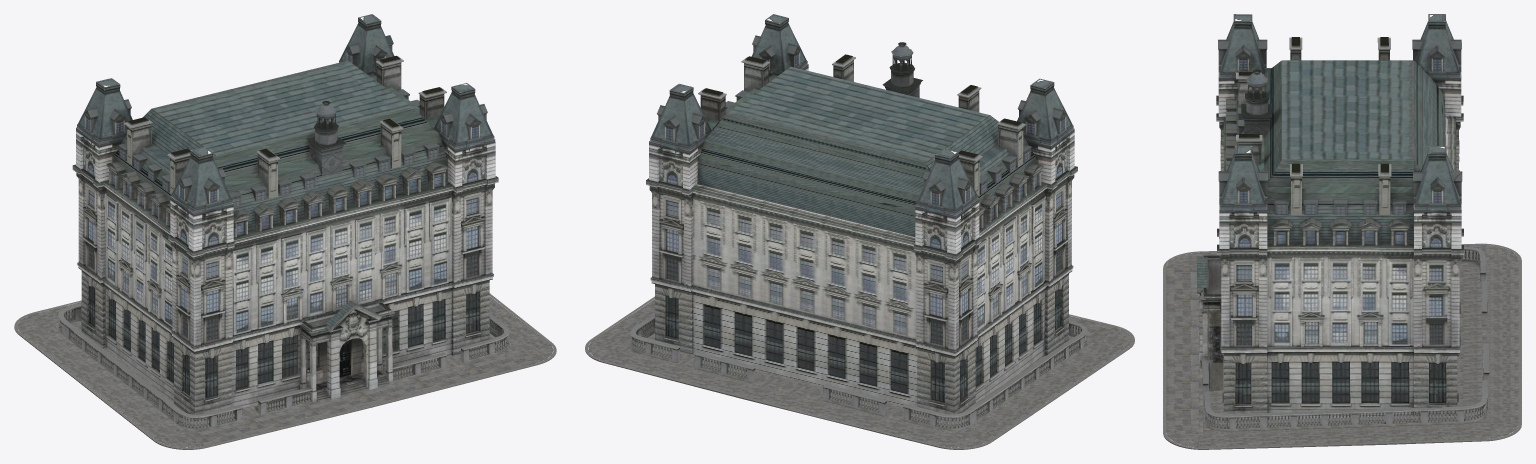
File: free_london_kinnaird_house.glb
The picture shows the model from 3 angles, left to right: view 1: azimuth 30°, elevation 25°; view 2: azimuth 150°, elevation 25°; view 3: azimuth 270°, elevation 25°; orthographic projection. The views are drawn at different scales.
Visible parts, largest first — view 1: Building_London_Building_0, Plane.001_Sidewalk_0, Plane.002_Sidewalk_Curb_0; view 2: Building_London_Building_0, Plane.001_Sidewalk_0, Plane.002_Sidewalk_Curb_0; view 3: Building_London_Building_0, Plane.001_Sidewalk_0, Plane.002_Sidewalk_Curb_0.
Boxes of the visible parts, x1,y1,x2,y2 form: Building_London_Building_0: [58, 14, 509, 429]; Plane.001_Sidewalk_0: [17, 296, 553, 447]; Plane.002_Sidewalk_Curb_0: [14, 293, 556, 449]; Building_London_Building_0: [630, 14, 1087, 430]; Plane.001_Sidewalk_0: [588, 299, 1131, 447]; Plane.002_Sidewalk_Curb_0: [585, 296, 1134, 449]; Building_London_Building_0: [1197, 14, 1489, 431]; Plane.001_Sidewalk_0: [1166, 245, 1518, 447]; Plane.002_Sidewalk_Curb_0: [1163, 243, 1521, 449].
Bounding box in the file's own units: 51.48 × 33.84 × 39.04.
3 materials, 3 textured.
